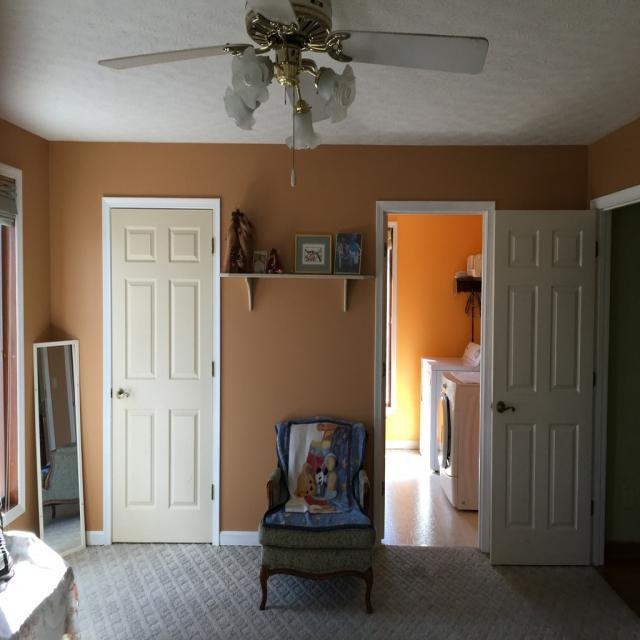bulb_off: (334, 79, 362, 112), (237, 62, 260, 94)
fan_off: (82, 2, 492, 109)
